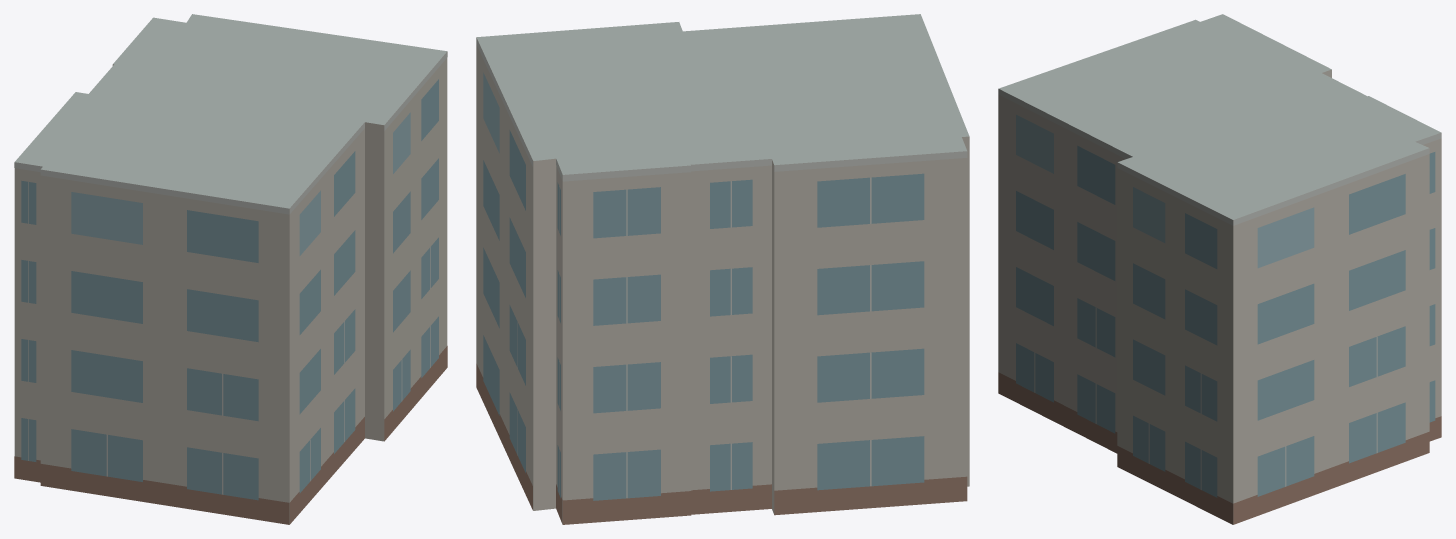
The model's file is survey-upis-32781353.glb.
3 views of the same model, side by side, from view 1: azimuth 30°, elevation 25°; view 2: azimuth 150°, elevation 25°; view 3: azimuth 270°, elevation 25° (orthographic). The views are drawn at different scales.
Visible parts, largest first — view 1: survey-upis-32781353.tmp; view 2: survey-upis-32781353.tmp; view 3: survey-upis-32781353.tmp.
Boxes of the visible parts, <box> form: survey-upis-32781353.tmp: <box>14,14,447,524</box>; survey-upis-32781353.tmp: <box>476,14,969,524</box>; survey-upis-32781353.tmp: <box>998,14,1441,524</box>.
Size of the model in its own units: 18.58 by 12.8 by 16.87.
